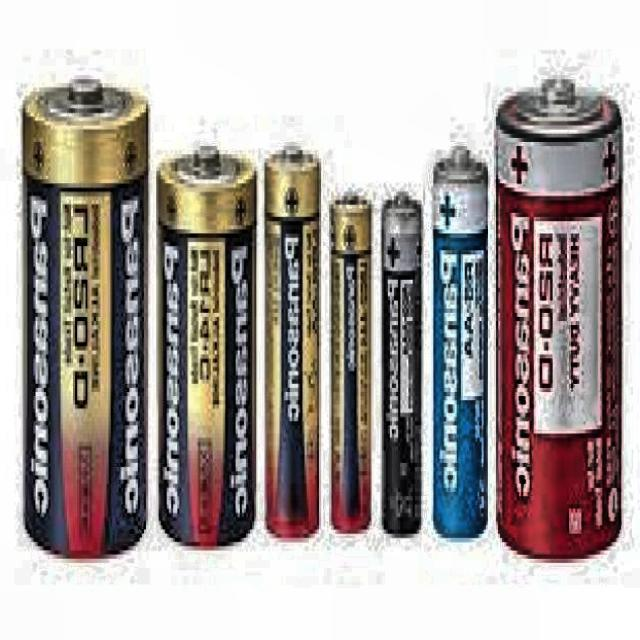Non-Valuable Waste - Batteries: (23, 76, 149, 559), (496, 79, 619, 555), (157, 146, 258, 549), (264, 146, 322, 540), (433, 146, 488, 540), (330, 194, 372, 533), (381, 191, 422, 535)
